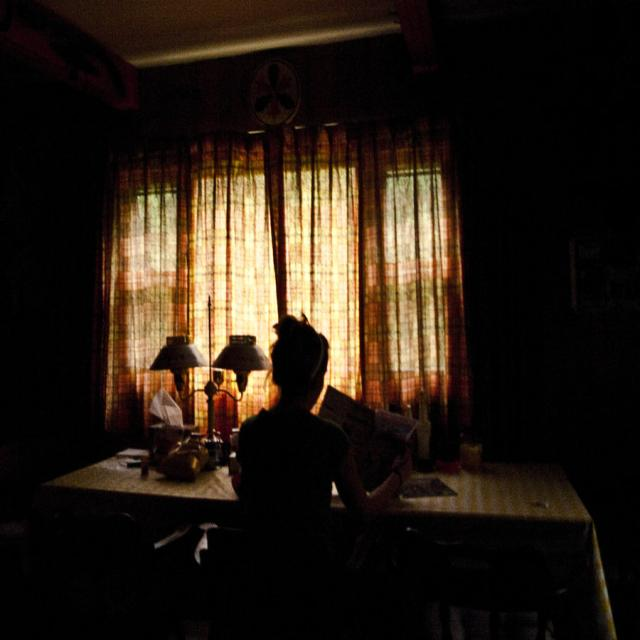People: (220, 297, 408, 618)
Table: (29, 378, 640, 640)
